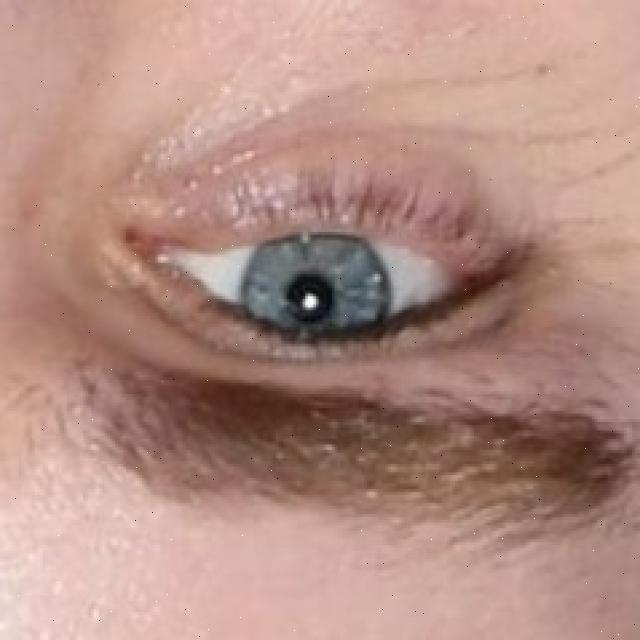Normal: (241, 217, 397, 375)
